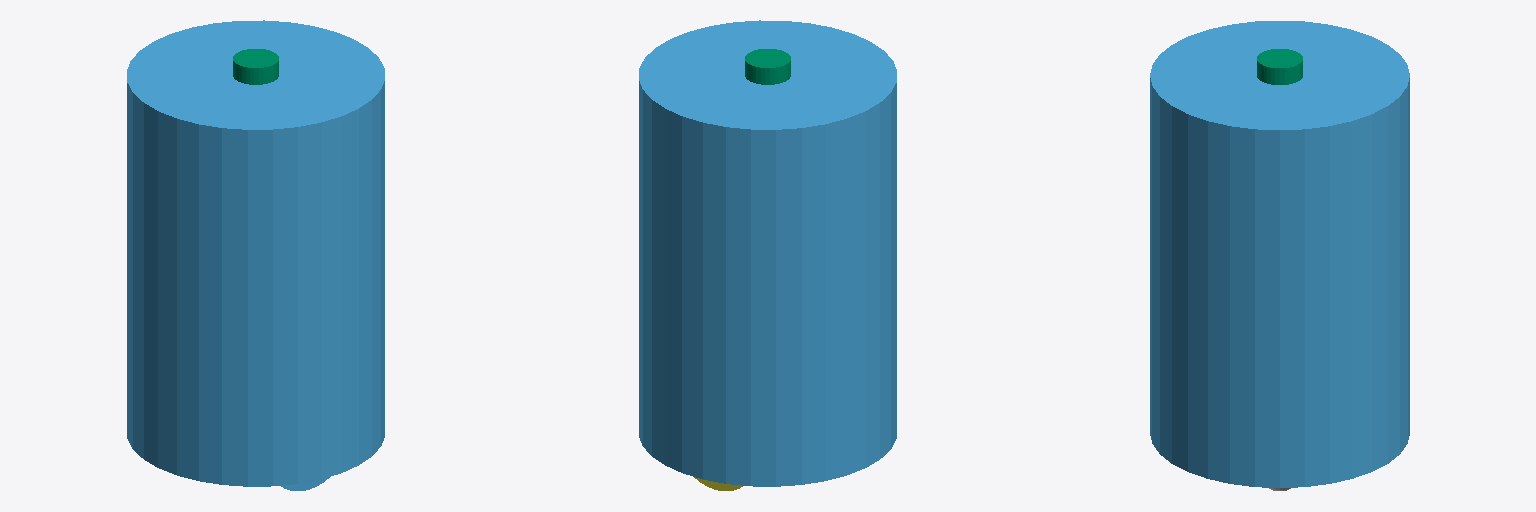
URDF robot description (ServiceRoboter):
?<?xml version="1.0" encoding="utf-8"?>
<robot name="ServiceRoboter">
  <link name="base_link">
    <inertial>
      <origin rpy="0 0 0" xyz="0 0 0" />
      <mass value="1" />
      <inertia ixx="1" ixy="0" ixz="0" iyy="1" iyz="0" izz="1" />
    </inertial>
  </link>
  <link name="barrel">
    <inertial>
      <origin rpy="0 0 0" xyz="0 0 0.475" />
      <mass value="1" />
      <inertia ixx="0.079488530755043" ixy="0" ixz="0" iyy="0.0794885382056236" iyz="0" izz="0.0385604798793793" />
    </inertial>
    <visual>
      <origin xyz="0 0 0.475" />
      <geometry>
        <cylinder length="0.85" radius="0.28" />
      </geometry>
    </visual>
    <collision>
      <origin xyz="0 0 0.475" />
      <geometry>
        <cylinder length="0.85" radius="0.28" />
      </geometry>
    </collision>
  </link>
  <link name="lidar">
    <inertial>
      <origin rpy="0 0 0" xyz="0 0 0" />
      <mass value="1" />
      <inertia ixx="1" ixy="0" ixz="0" iyy="1" iyz="0" izz="1" />
    </inertial>
    <visual>
      <origin xyz="0 0 0.02" />
      <geometry>
        <cylinder length="0.04" radius="0.05" />
      </geometry>
    </visual>
    <collision>
      <origin xyz="0 0 0.02" />
      <geometry>
        <cylinder length="0.04" radius="0.05" />
      </geometry>
    </collision>
  </link>
  <link name="wheel_base">
    <inertial>
      <origin rpy="0 0 0" xyz="0 0 0" />
      <mass value="1" />
      <inertia ixx="1" ixy="0" ixz="0" iyy="1" iyz="0" izz="1" />
    </inertial>
  </link>
  <link name="wheel_back_axis">
    <inertial>
      <origin rpy="0 0 0" xyz="0 0 0" />
      <mass value="1" />
      <inertia ixx="1" ixy="0" ixz="0" iyy="1" iyz="0" izz="1" />
    </inertial>
  </link>
  <link name="wheel_back">
    <inertial>
      <origin rpy="0 0 0" xyz="0 4E-06 3.6E-05" />
      <mass value="1" />
      <inertia ixx="0.00369529682211578" ixy="0" ixz="0" iyy="0.00369553361088037" iyz="0" izz="0.00341923860833049" />
    </inertial>
    <visual>
      <geometry>
        <sphere radius="0.05" />
      </geometry>
    </visual>
    <collision>
      <geometry>
        <sphere radius="0.05" />
      </geometry>
    </collision>
  </link>
  <link name="wheel_front_axis">
    <inertial>
      <origin rpy="0 0 0" xyz="0 0 0" />
      <mass value="1" />
      <inertia ixx="1" ixy="0" ixz="0" iyy="1" iyz="0" izz="1" />
    </inertial>
  </link>
  <link name="wheel_front">
    <inertial>
      <origin rpy="0 0 0" xyz="0 4E-06 3.6E-05" />
      <mass value="1" />
      <inertia ixx="0.00369529682211578" ixy="0" ixz="0" iyy="0.00369553361088037" iyz="0" izz="0.00341923860833049" />
    </inertial>
    <visual>
      <geometry>
        <sphere radius="0.05" />
      </geometry>
    </visual>
    <collision>
      <geometry>
        <sphere radius="0.05" />
      </geometry>
    </collision>
  </link>
  <link name="wheel_left_axis">
    <inertial>
      <origin rpy="0 0 0" xyz="0 0 0" />
      <mass value="1" />
      <inertia ixx="1" ixy="0" ixz="0" iyy="1" iyz="0" izz="1" />
    </inertial>
  </link>
  <link name="wheel_left">
    <inertial>
      <origin rpy="0 0 0" xyz="0 0 0" />
      <mass value="1" />
      <inertia ixx="0.00259254919365048" ixy="0" ixz="0" iyy="0.00491843000054359" iyz="0" izz="0.00259254802949727" />
    </inertial>
    <visual>
      <origin rpy="-1.570796 0 0" />
      <geometry>
        <cylinder length="0.04" radius="0.1" />
      </geometry>
    </visual>
    <collision>
      <origin rpy="-1.570796 0 0" />
      <geometry>
        <cylinder length="0.04" radius="0.1" />
      </geometry>
    </collision>
  </link>
  <link name="wheel_right_axis">
    <inertial>
      <origin rpy="0 0 0" xyz="0 0 0" />
      <mass value="1" />
      <inertia ixx="1" ixy="0" ixz="0" iyy="1" iyz="0" izz="1" />
    </inertial>
  </link>
  <link name="wheel_right">
    <inertial>
      <origin rpy="0 0 0" xyz="0 0 0" />
      <mass value="1" />
      <inertia ixx="0.00259254919365048" ixy="0" ixz="0" iyy="0.00491843000054359" iyz="0" izz="0.00259254802949727" />
    </inertial>
    <visual>
      <origin rpy="-1.570796 0 0" />
      <geometry>
        <cylinder length="0.04" radius="0.1" />
      </geometry>
    </visual>
    <collision>
      <origin rpy="-1.570796 0 0" />
      <geometry>
        <cylinder length="0.04" radius="0.1" />
      </geometry>
    </collision>
  </link>
  <joint name="base_link_barrel_joint" type="fixed">
    <parent link="base_link" />
    <child link="barrel" />
  </joint>
  <joint name="barrel_lidar_joint" type="fixed">
    <origin xyz="0 0 0.9" />
    <parent link="barrel" />
    <child link="lidar" />
  </joint>
  <joint name="barrel_wheel_base_joint" type="fixed">
    <origin xyz="0 0 0.1" />
    <parent link="barrel" />
    <child link="wheel_base" />
  </joint>
  <joint name="wheel_base_wheel_back_axis_joint" type="fixed">
    <origin xyz="0 0 -0.04" />
    <parent link="wheel_base" />
    <child link="wheel_back_axis" />
  </joint>
  <joint name="wheel_back_axis_wheel_back_joint" type="fixed">
    <origin xyz="-0.2 0 0" />
    <parent link="wheel_back_axis" />
    <child link="wheel_back" />
  </joint>
  <joint name="wheel_base_wheel_front_axis_joint" type="fixed">
    <origin xyz="0.2 0 -0.04" />
    <parent link="wheel_base" />
    <child link="wheel_front_axis" />
  </joint>
  <joint name="wheel_front_axis_wheel_front_joint" type="fixed">
    <parent link="wheel_front_axis" />
    <child link="wheel_front" />
  </joint>
  <joint name="wheel_base_wheel_left_axis_joint" type="fixed">
    <origin xyz="0 -0.2 0" />
    <parent link="wheel_base" />
    <child link="wheel_left_axis" />
  </joint>
  <joint name="wheel_left_axis_wheel_left_joint" type="revolute">
    <parent link="wheel_left_axis" />
    <child link="wheel_left" />
    <dynamics damping="0.0500000007450581" friction="0.0500000007450581" />
    <limit lower="0" upper="0" effort="3.40282346638529E+38" velocity="7" />
  </joint>
  <joint name="wheel_base_wheel_right_axis_joint" type="fixed">
    <origin xyz="0 0.2 0" />
    <parent link="wheel_base" />
    <child link="wheel_right_axis" />
  </joint>
  <joint name="wheel_right_axis_wheel_right_joint" type="revolute">
    <parent link="wheel_right_axis" />
    <child link="wheel_right" />
    <dynamics damping="0.0500000007450581" friction="0.0500000007450581" />
    <limit lower="0" upper="0" effort="3.40282346638529E+38" velocity="7" />
  </joint>
</robot>

--- Facts derived from the render (not from the file) ---
Views: 3 orthographic renders of the robot side by side, from view 1: azimuth 30°, elevation 25°; view 2: azimuth 150°, elevation 25°; view 3: azimuth 270°, elevation 25°.
Robot: ServiceRoboter — 12 links, 11 joints (2 revolute, 9 fixed); root link base_link; default pose: all joints at 0.
Links seen in each view (by area): view 1: barrel, lidar; view 2: barrel, lidar; view 3: barrel, lidar.
Link boxes in pixels (bbox=[...]): barrel: bbox=[127, 20, 384, 486]; lidar: bbox=[233, 49, 278, 84]; barrel: bbox=[639, 20, 896, 486]; lidar: bbox=[745, 49, 790, 84]; barrel: bbox=[1150, 21, 1409, 487]; lidar: bbox=[1257, 49, 1302, 84].
Bounding box of the posed robot: 0.56 × 0.56 × 0.94 m (x, y, z).
Geometry: primitives only (box / cylinder / sphere), no mesh files.